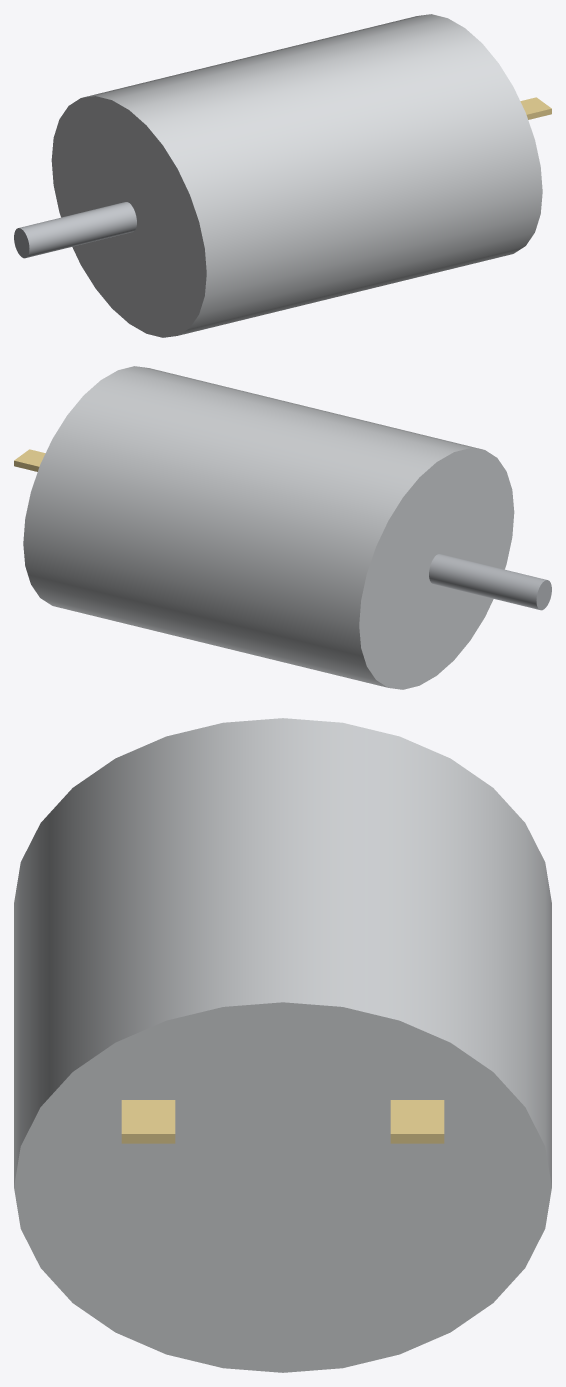
Rendered from dc-motor.glb.
3 renders of one model, top to bottom at view 1: azimuth 30°, elevation 25°; view 2: azimuth 150°, elevation 25°; view 3: azimuth 270°, elevation 25°, orthographic. The views are drawn at different scales.
Visible parts, largest first — view 1: can, shaft, terminals; view 2: can, shaft, terminals; view 3: can, terminals.
Part boxes in pixels (box(x1,y1,x2,y2)): can: box(51, 14, 542, 337); shaft: box(14, 202, 136, 258); terminals: box(520, 97, 551, 119); can: box(23, 366, 514, 689); shaft: box(429, 554, 551, 610); terminals: box(14, 449, 45, 471); can: box(14, 718, 551, 1372); terminals: box(121, 1100, 444, 1143).
Size of the model in its own units: 0.036 by 0.0152 by 0.02.
